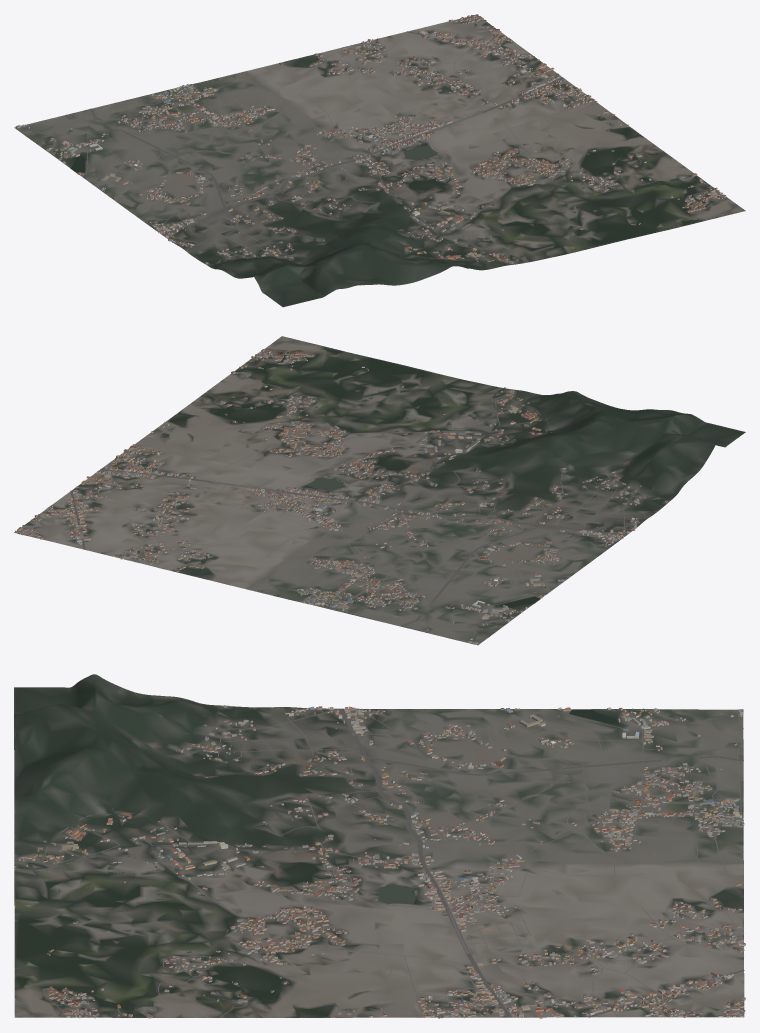
The picture shows the model from 3 angles, top to bottom: view 1: azimuth 30°, elevation 25°; view 2: azimuth 150°, elevation 25°; view 3: azimuth 270°, elevation 25°; orthographic projection. The views are drawn at different scales.
Parts seen in each view (by area): view 1: ground, buildings, roads, water; view 2: ground, buildings, roads, water; view 3: ground, buildings, roads, water.
Boxes of the visible parts, <box> form: ground: <box>14,15,745,307</box>; buildings: <box>15,14,726,264</box>; roads: <box>24,19,727,262</box>; water: <box>71,145,584,246</box>; ground: <box>14,336,745,645</box>; buildings: <box>14,349,667,644</box>; roads: <box>22,349,667,641</box>; water: <box>307,392,539,606</box>; ground: <box>14,674,744,1017</box>; buildings: <box>14,705,745,1018</box>; roads: <box>14,705,744,1017</box>; water: <box>53,709,616,954</box>.
Bounding box in the file's own units: 2813 × 185 × 2813.
